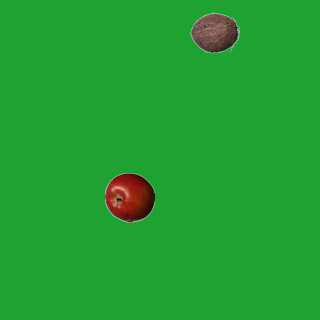Apple Braeburn: (104, 172, 154, 222)
Cocos: (189, 7, 239, 57)
